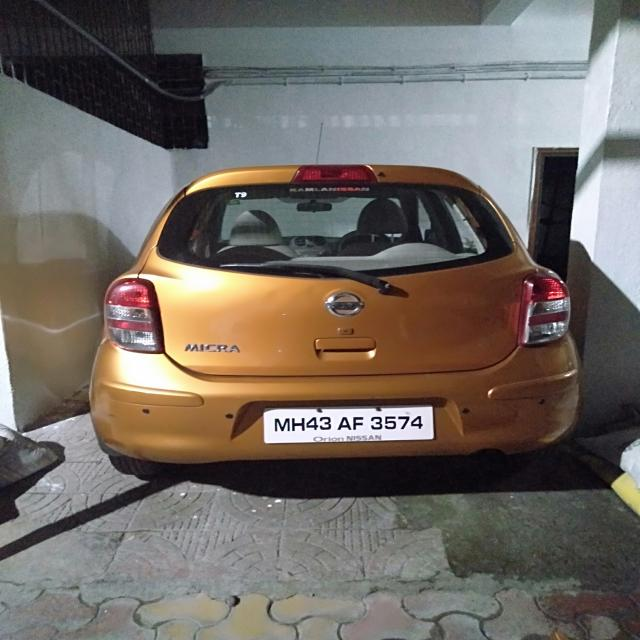Number-Plate: (265, 406, 434, 441)
